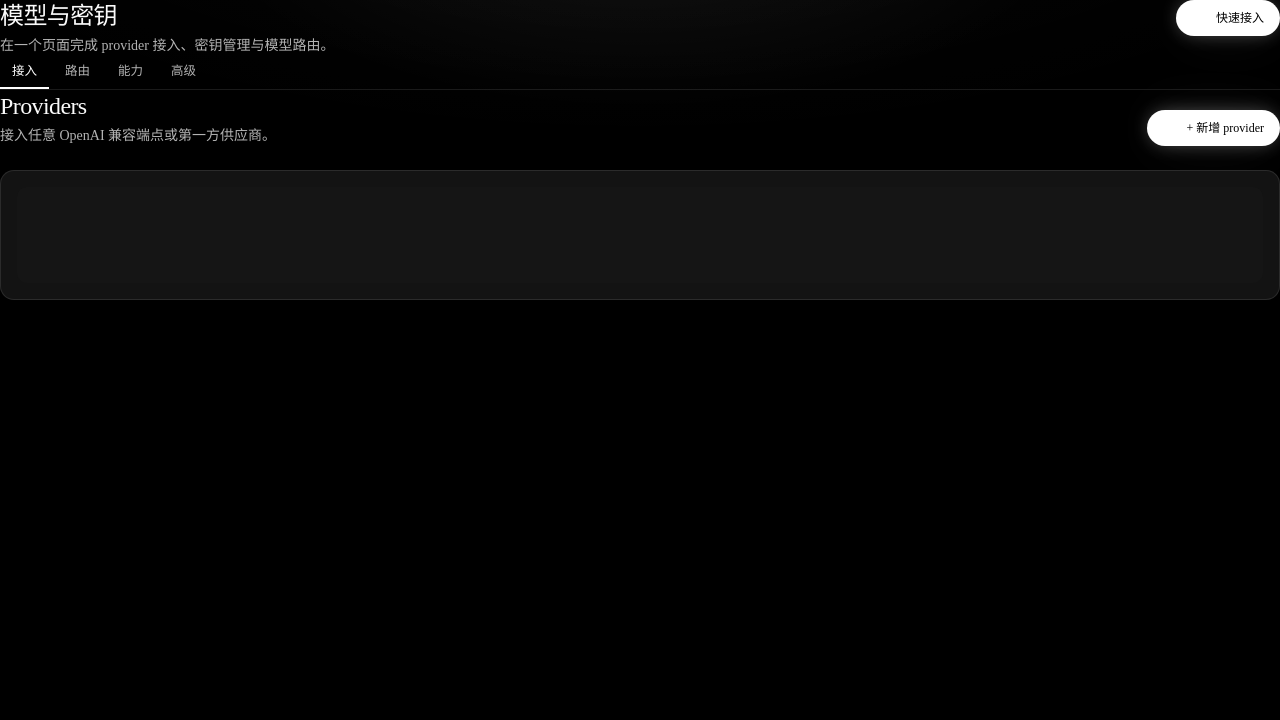
ModelsPage (Models & Keys hub) › opens the quick-setup dialog from the header button
The image size is (1280, 720).
Click the button with test id "model-hub-quick-setup-btn".
click(1228, 18)  # box [1176,0,1279,36]
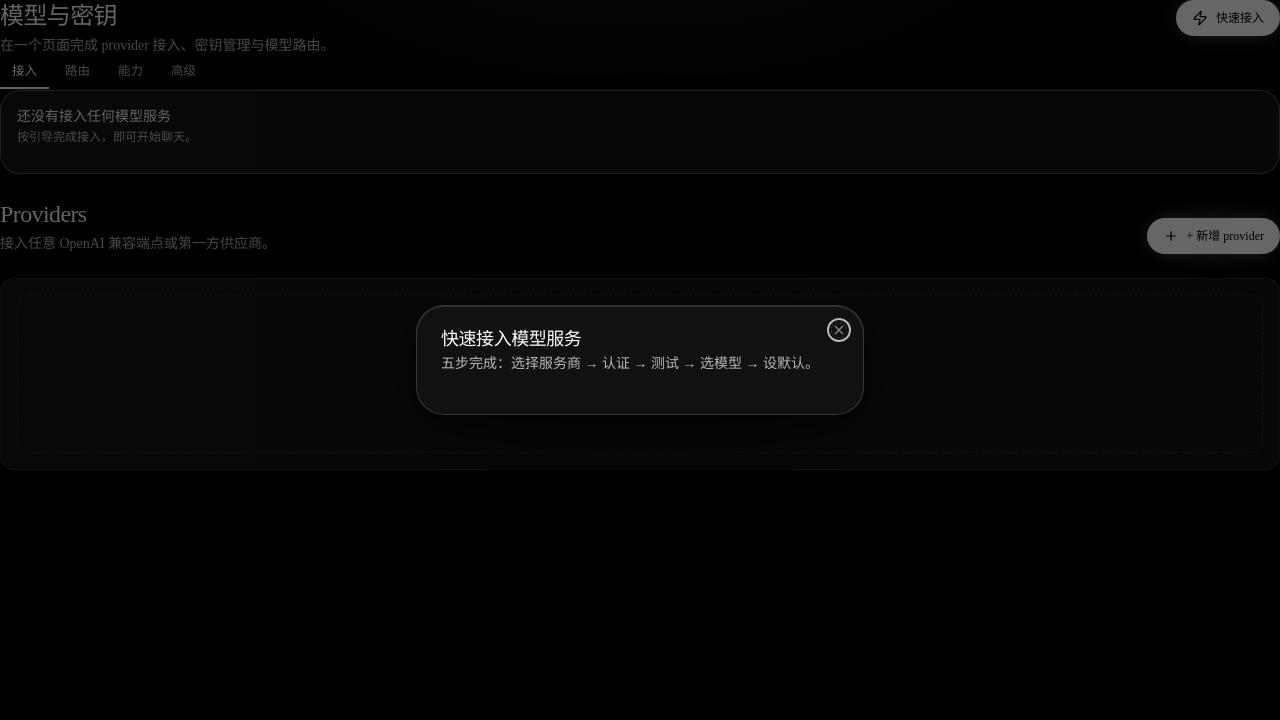
Expected: the dialog with test id "model-hub-quick-setup-dialog" is shown, [416,305,864,415]
